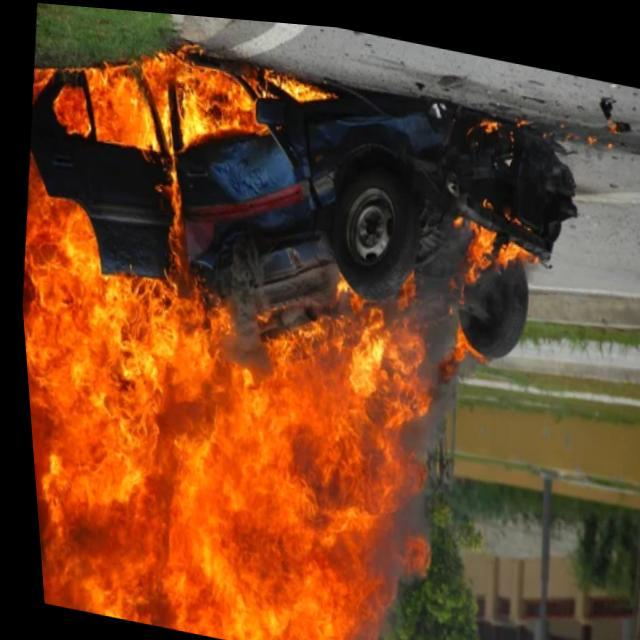fire: (2, 39, 469, 640), (441, 204, 532, 294)
